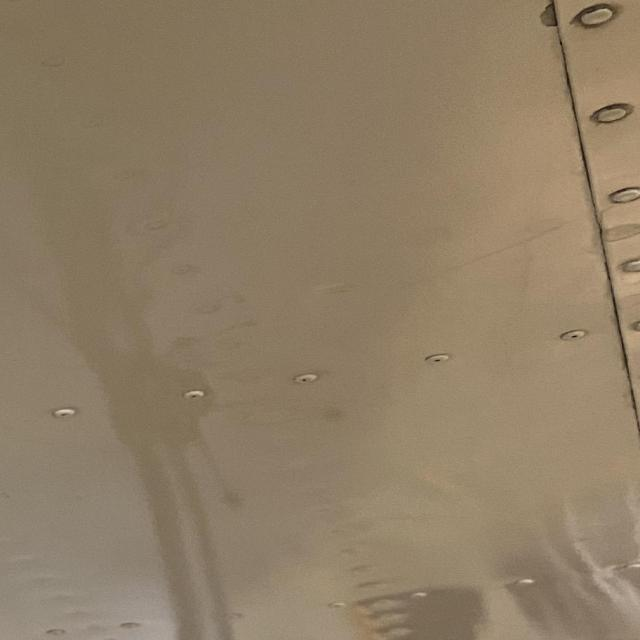Paint-off: (539, 3, 564, 28)
